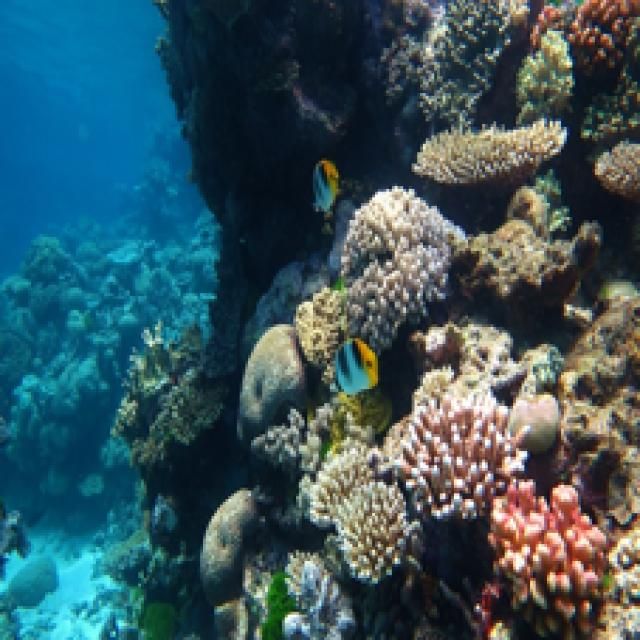Healthy: (368, 1, 528, 148), (342, 187, 466, 351), (455, 190, 599, 331), (489, 480, 604, 635), (390, 393, 523, 517), (413, 119, 565, 184), (339, 480, 418, 582), (308, 438, 370, 528), (571, 1, 638, 77), (517, 32, 573, 122), (286, 565, 351, 638), (297, 289, 345, 384), (596, 145, 638, 201)
